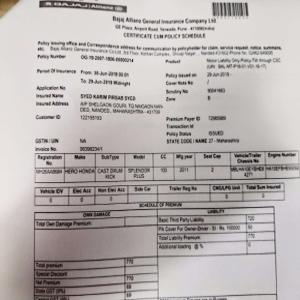table: (34, 207, 275, 300), (33, 152, 298, 178), (33, 186, 287, 203)
text: (34, 52, 280, 150), (37, 38, 282, 56), (111, 14, 219, 42)
